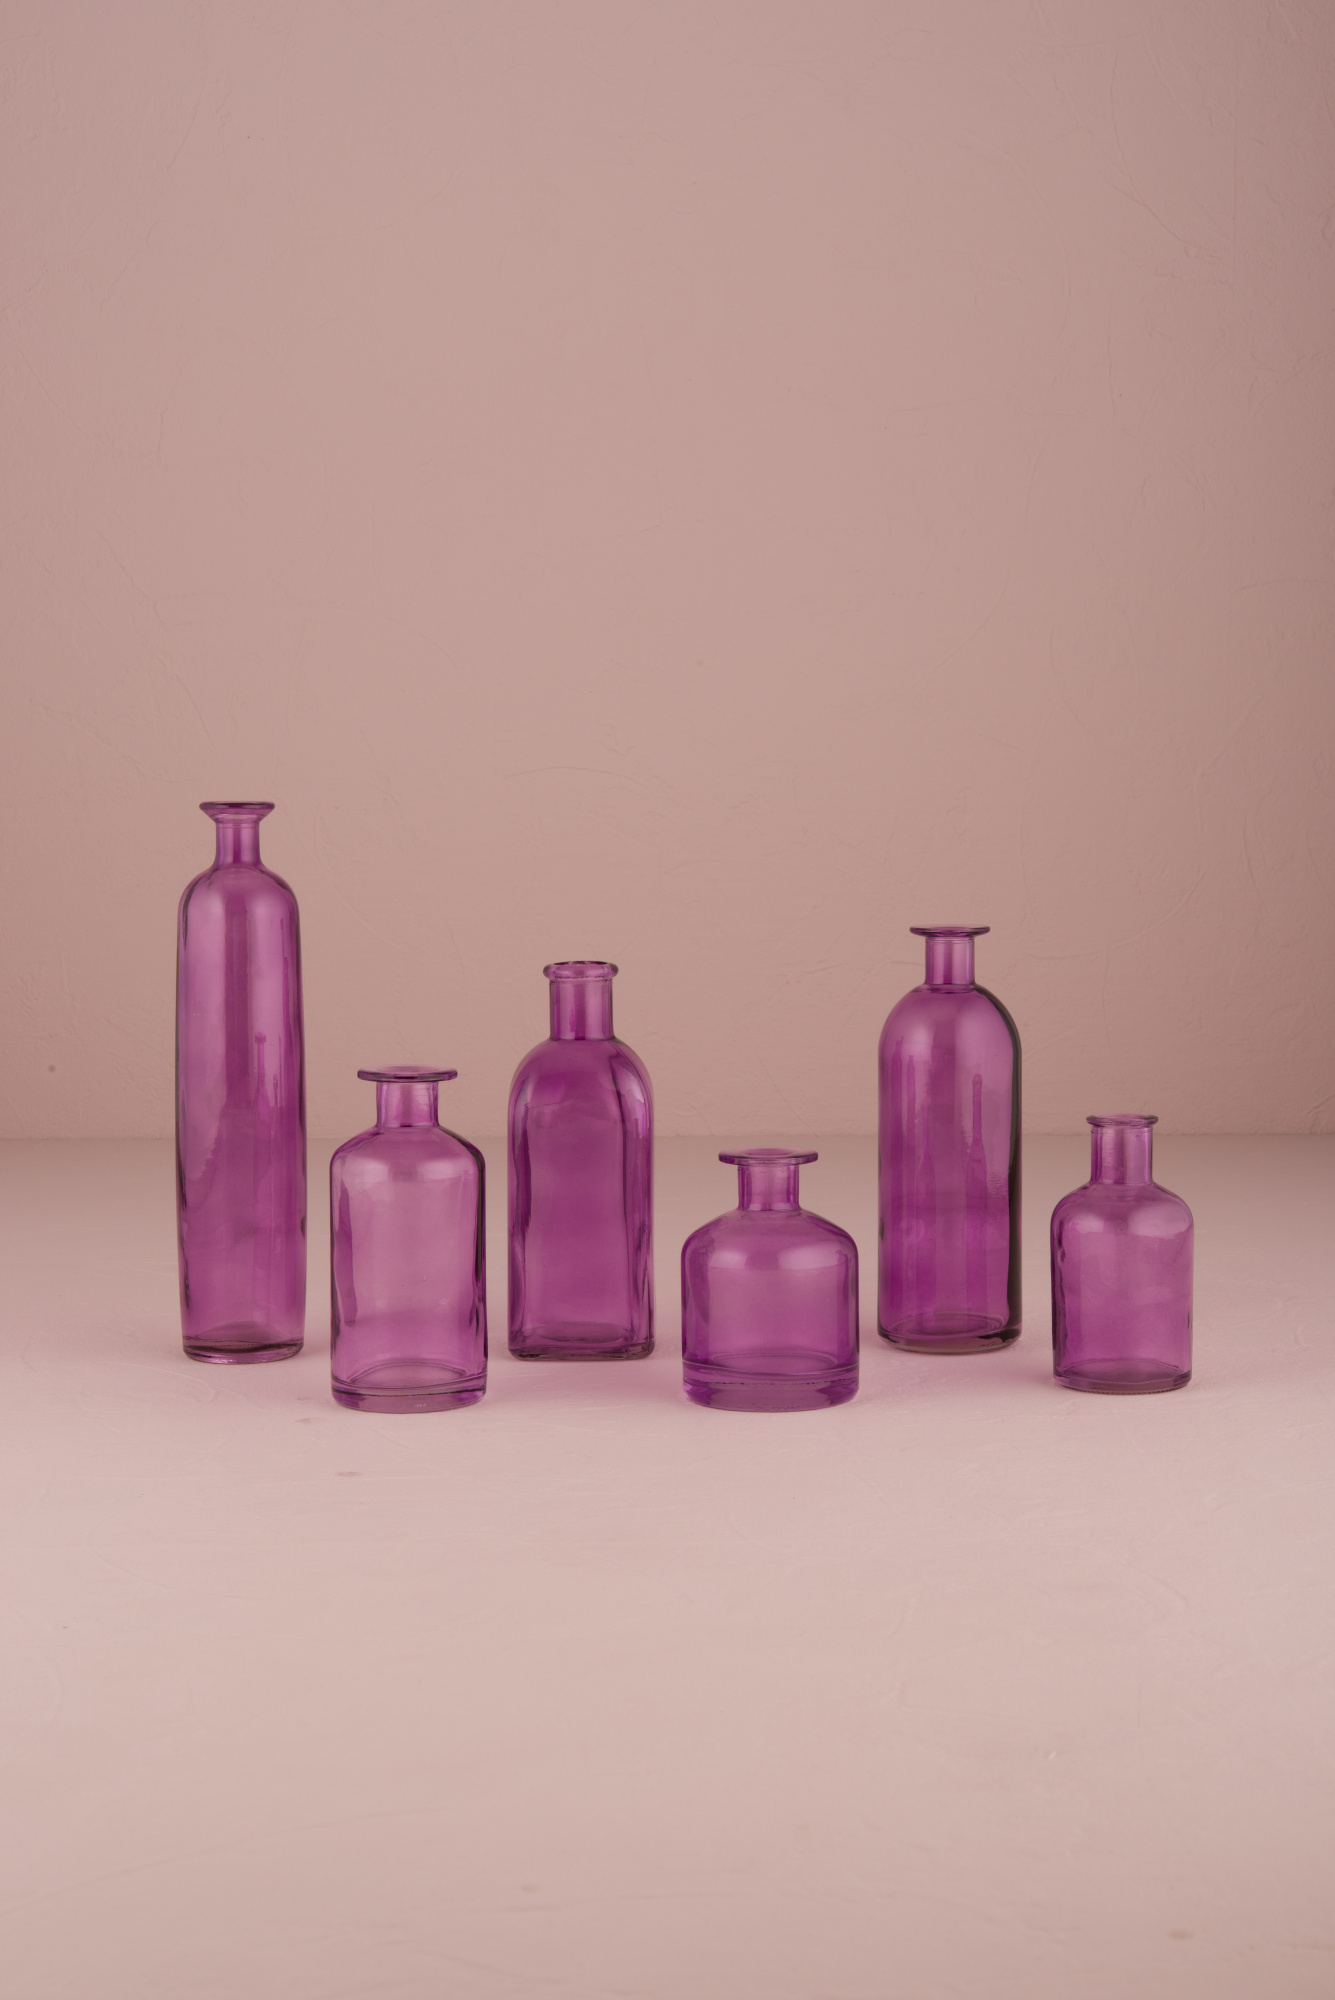glass_bottle: (161, 791, 313, 1373), (861, 923, 1030, 1369), (495, 943, 667, 1375), (316, 1048, 498, 1436), (672, 1144, 870, 1427), (1034, 1102, 1205, 1421)
